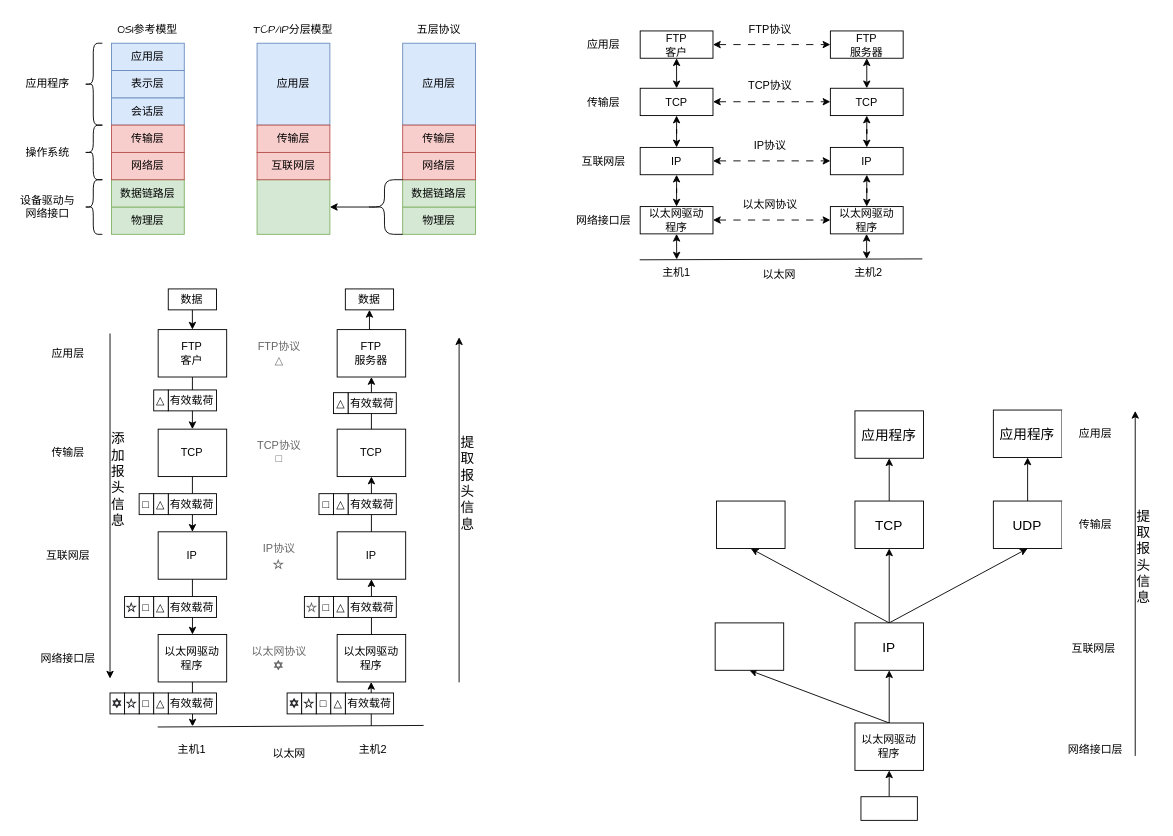
The diagram is 1173 pixels wide and 836 high, and some of its shapes have lost their labels. The centre of each missing label's shape, as x and y in pixels:
"其他互联网层协议" belongs at (x=749, y=646).
"其他传输层 协议" belongs at (x=750, y=524).
"网络接口层 (网卡+硬件)" belongs at (x=293, y=206).
"进入的帧" belongs at (x=888, y=808).
